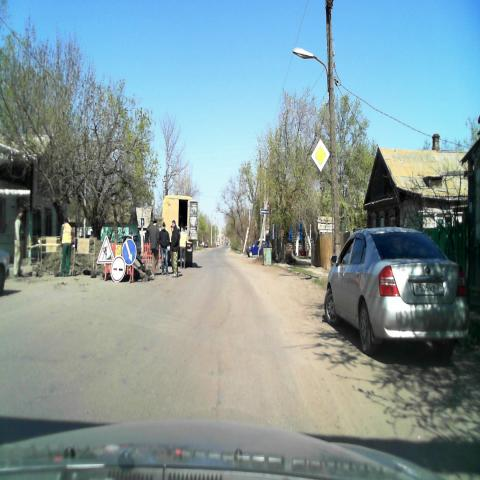4_2_1: (122, 239, 136, 267)
